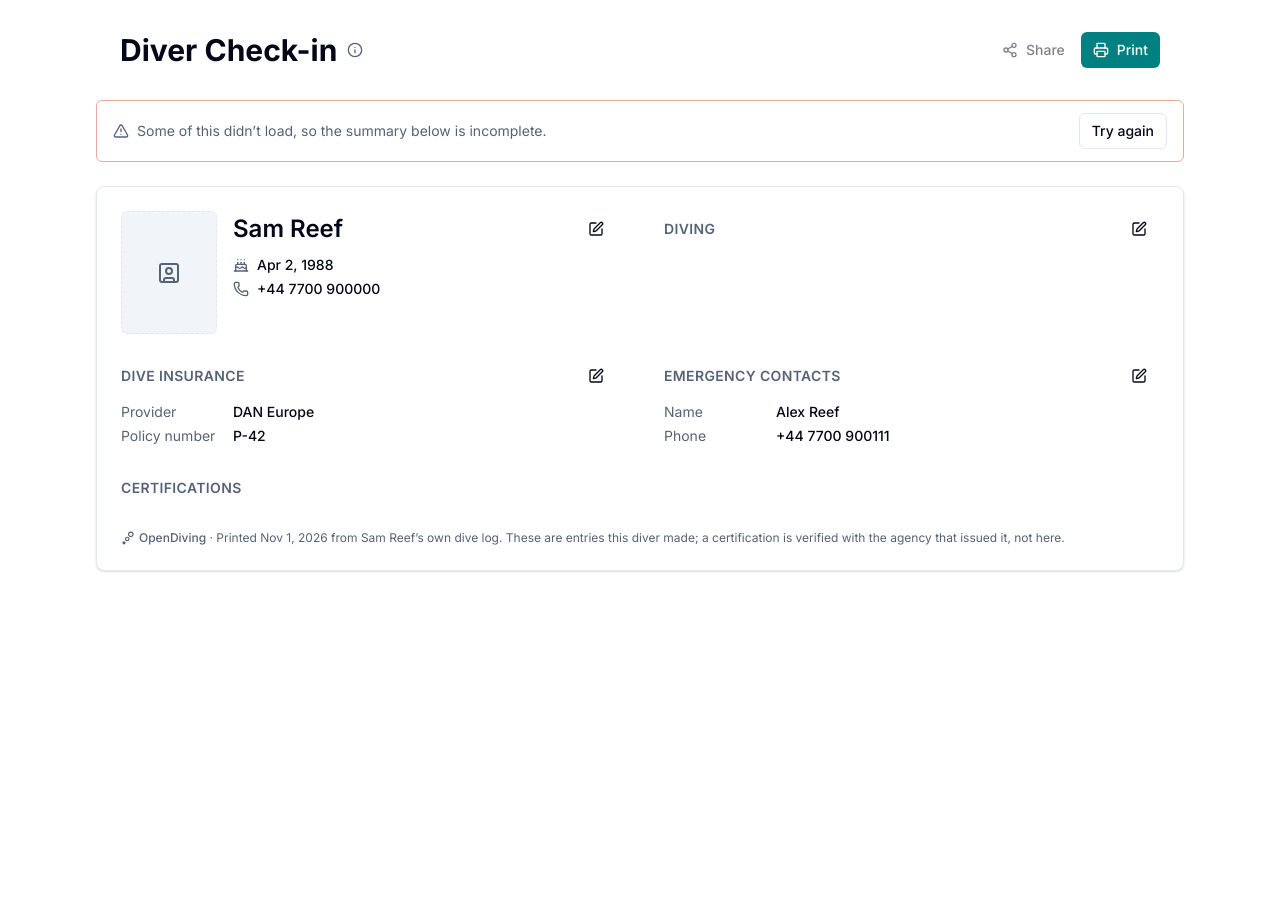
Test: sharing it as a link › holds Share after a failed read, until the diver types the figures in
Check: the button "Share" is disabled, box [990,32,1077,68]
Click the button named "Correct these figures".
click(1139, 229)  # box [1119,211,1159,247]
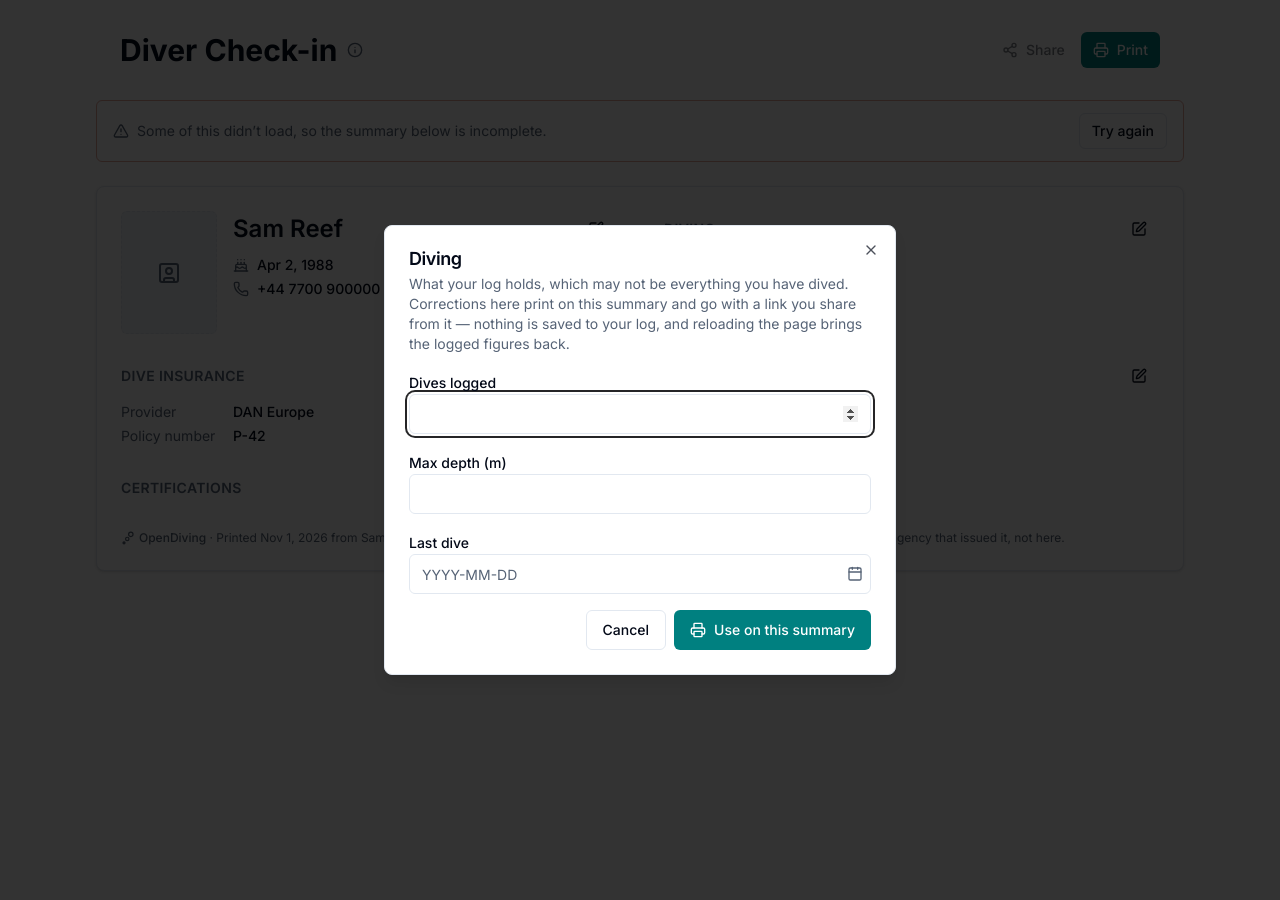
Type "310" into the number field labelled "Dives logged".
click(640, 414); type("310")  # box [409,394,871,434]
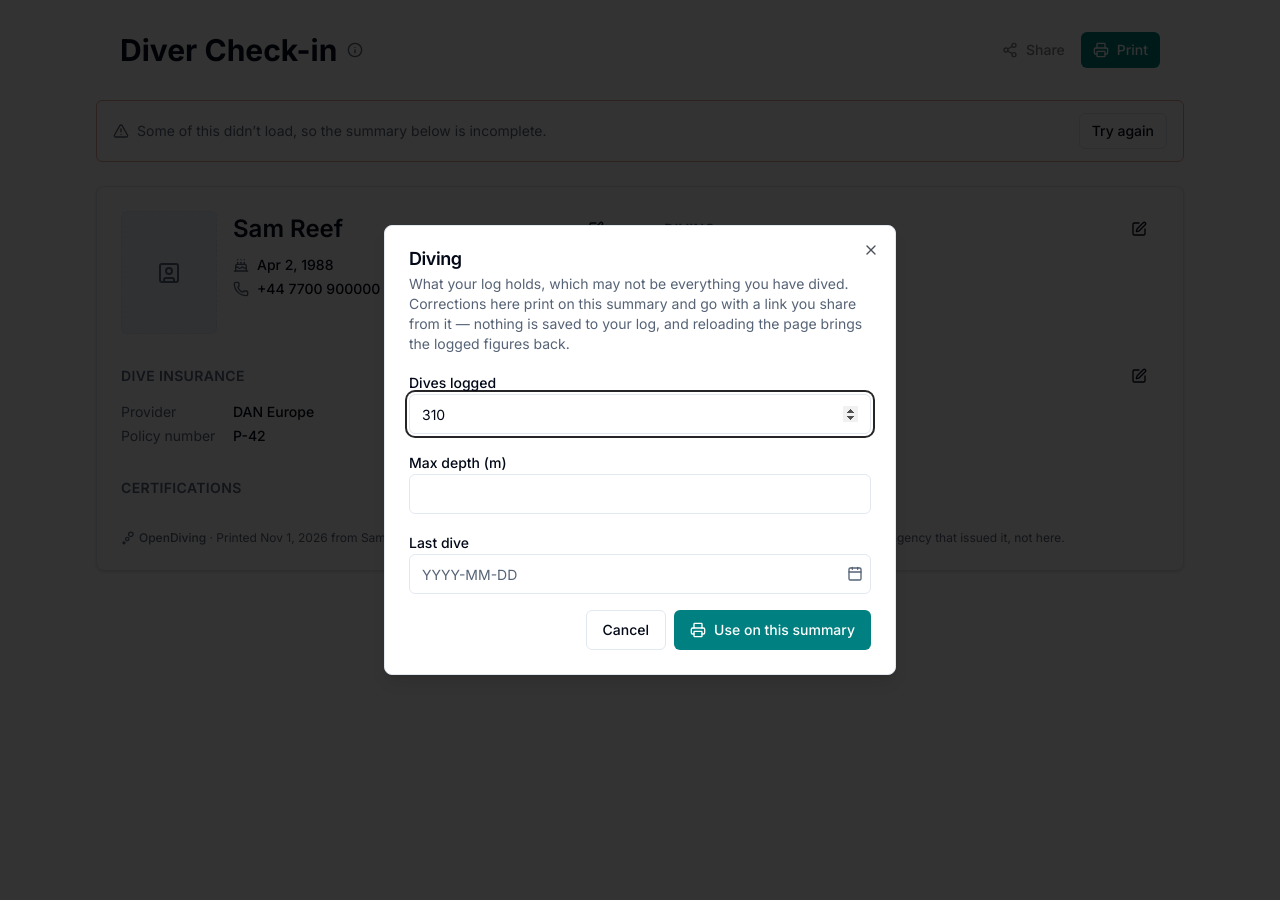
Click the button "Use on this summary".
click(773, 630)  # box [674,610,871,650]
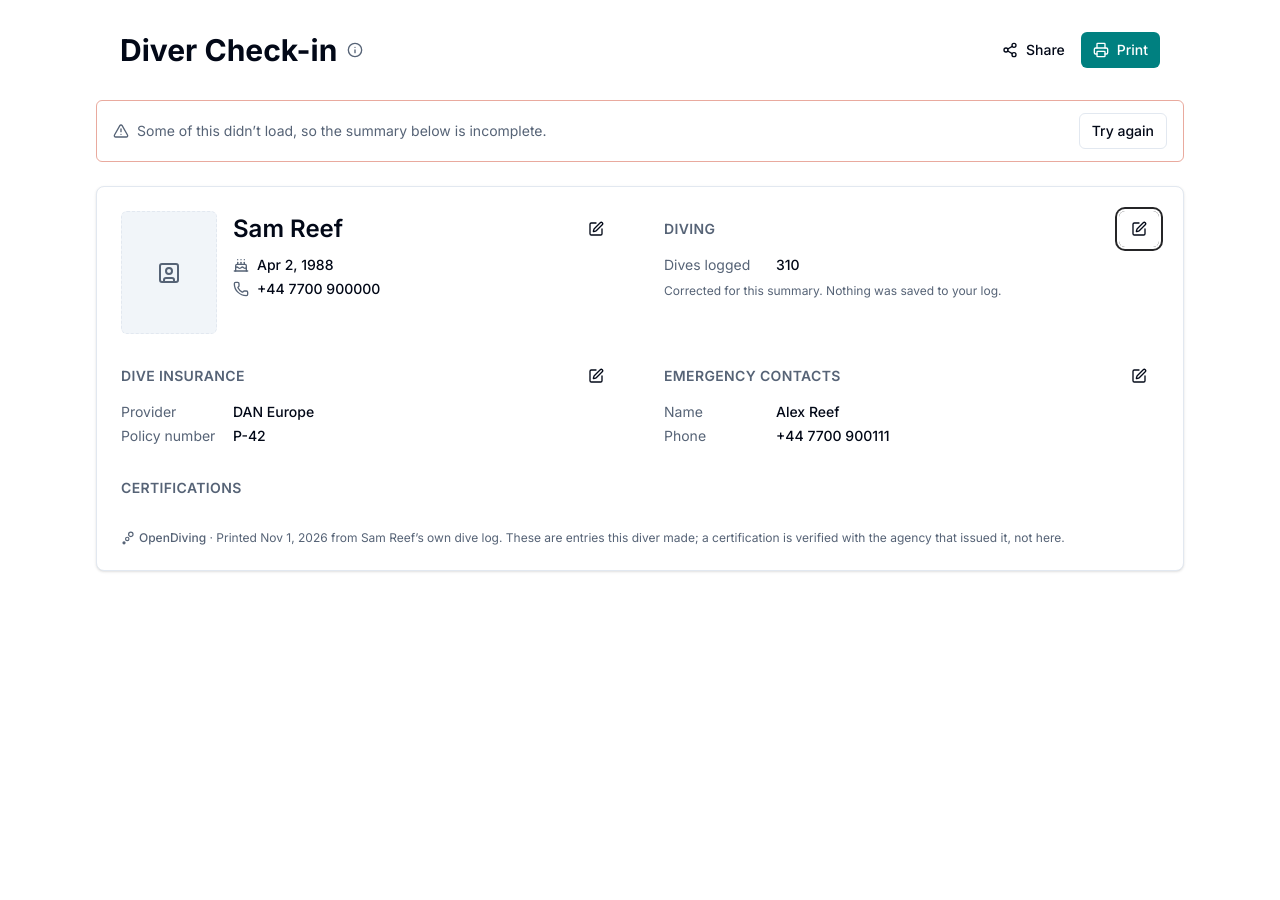
Check: the button "Share" is enabled, box [990,32,1077,68]
